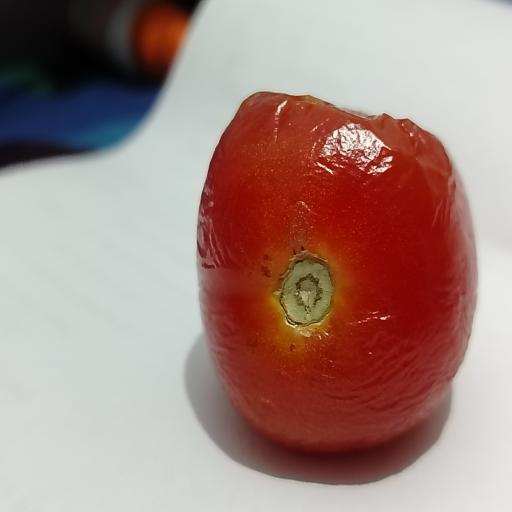spoiled: (197, 92, 476, 451)
